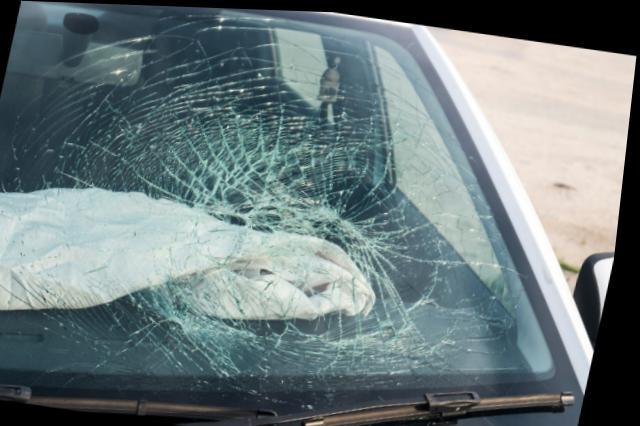glass shatter: (0, 1, 561, 409)
